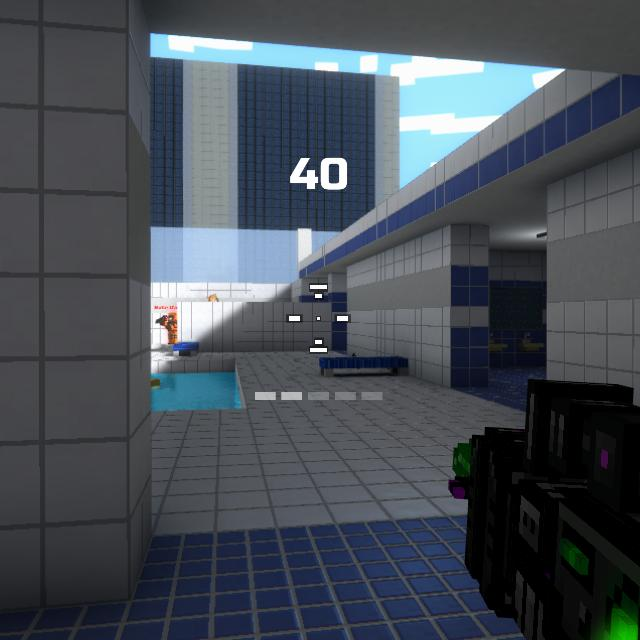Enemy: (160, 312, 177, 344)
